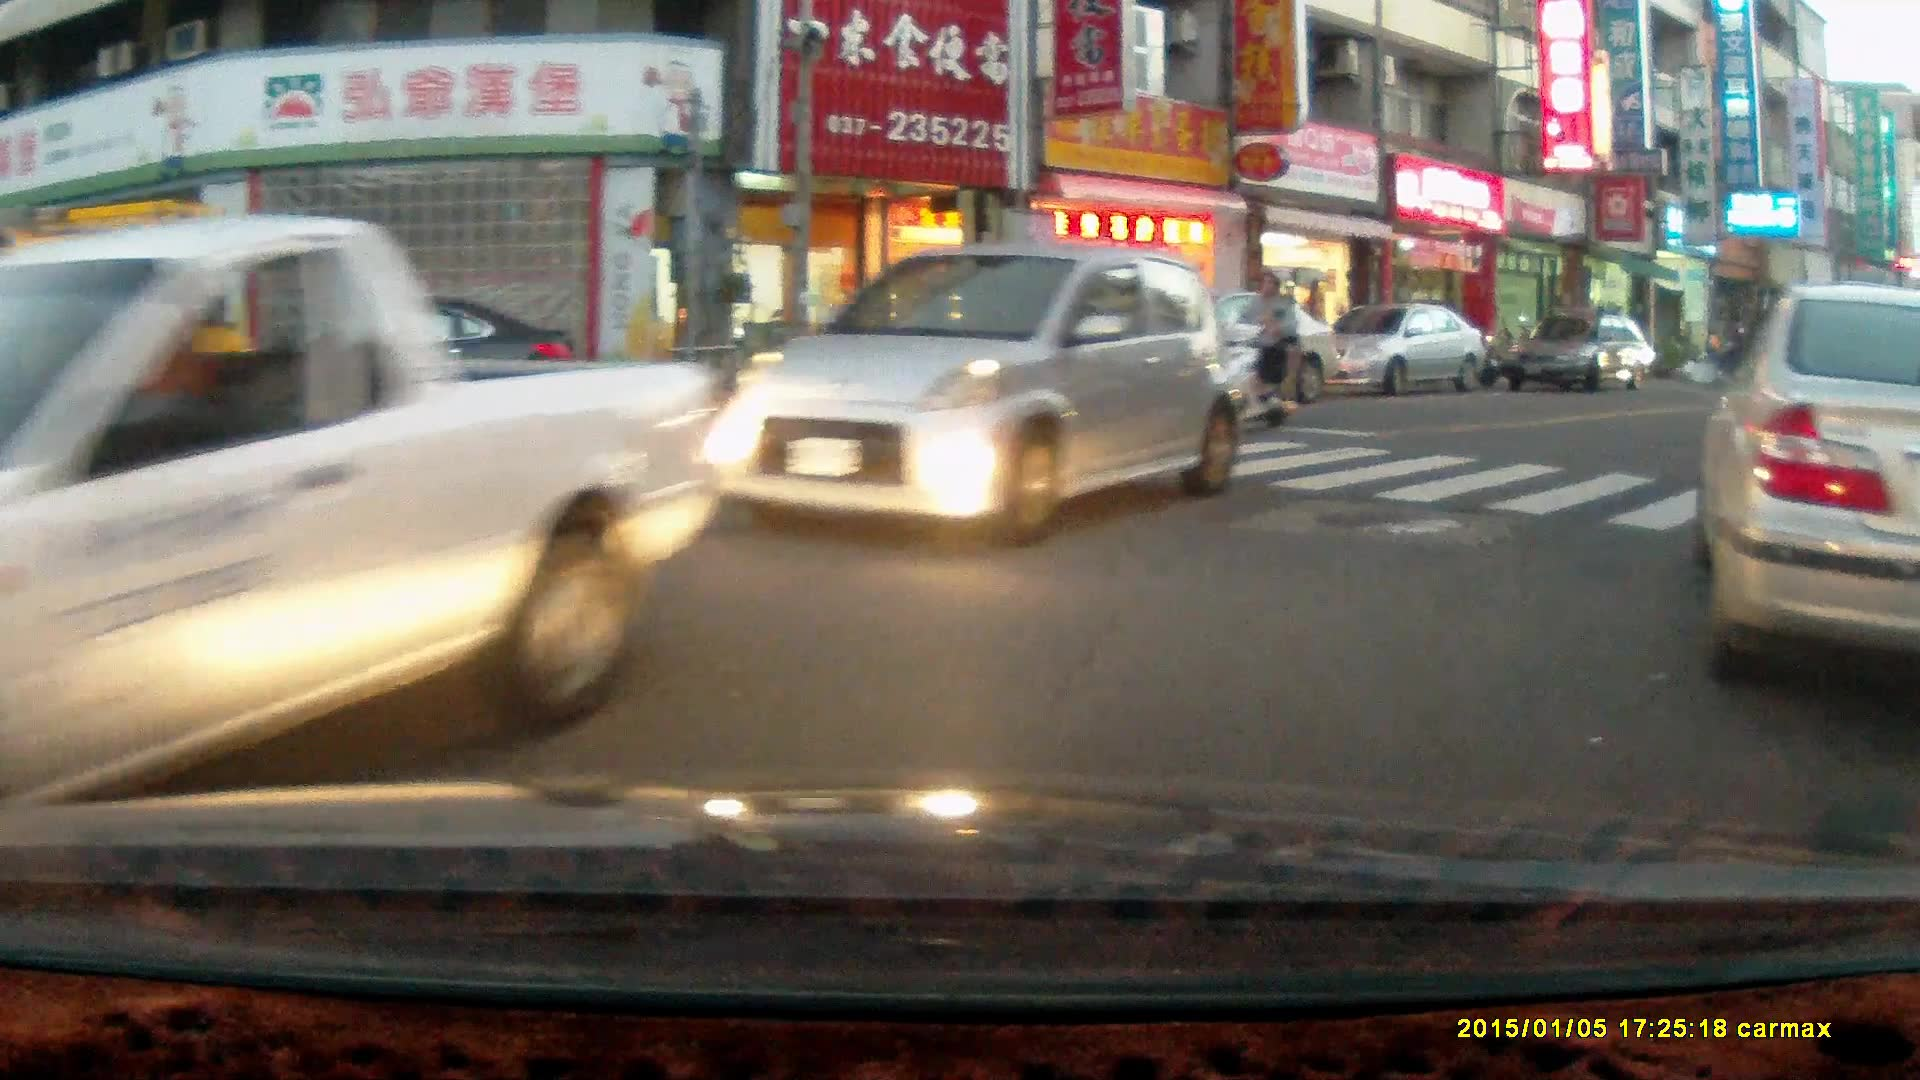rider: (1200, 260, 1300, 436)
vehicle: (2, 212, 731, 832), (698, 246, 1256, 543), (1696, 280, 1920, 706), (252, 291, 581, 442), (1317, 305, 1485, 396), (1501, 316, 1657, 393)
